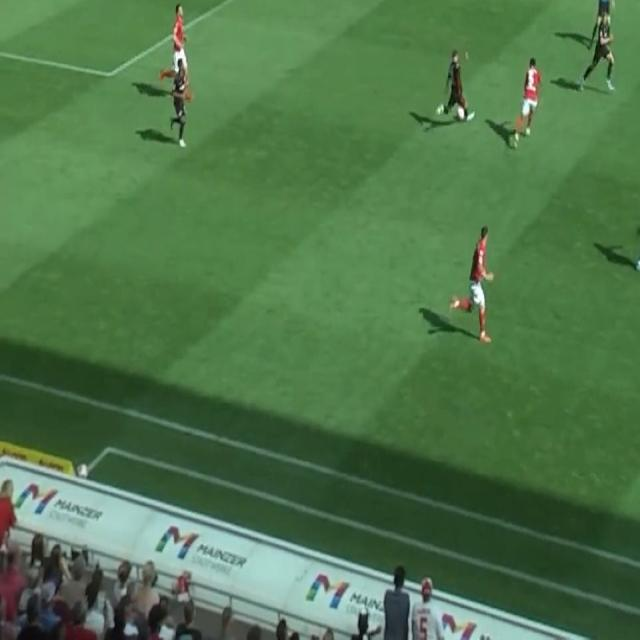ball: (458, 106, 466, 120)
